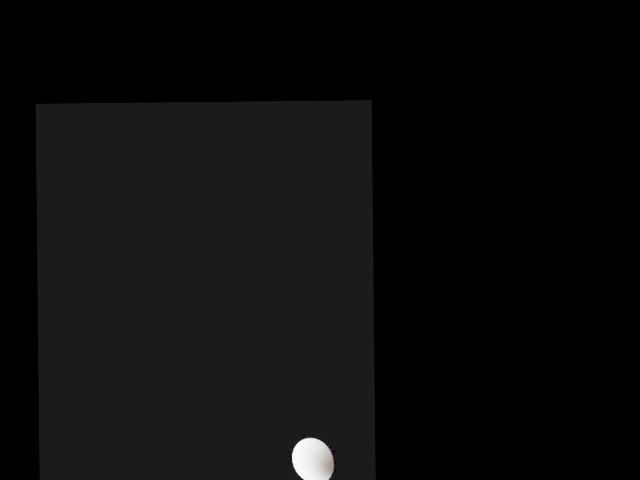egg: (292, 438, 333, 480)
